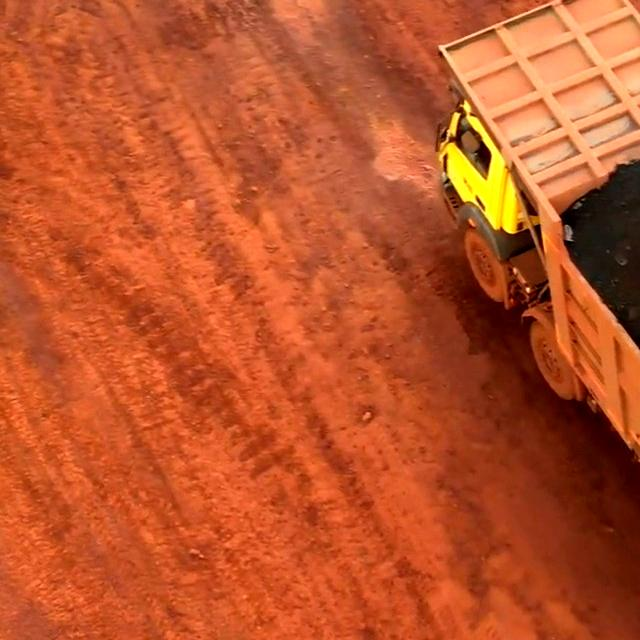Dumper truck: (444, 39, 640, 244)
